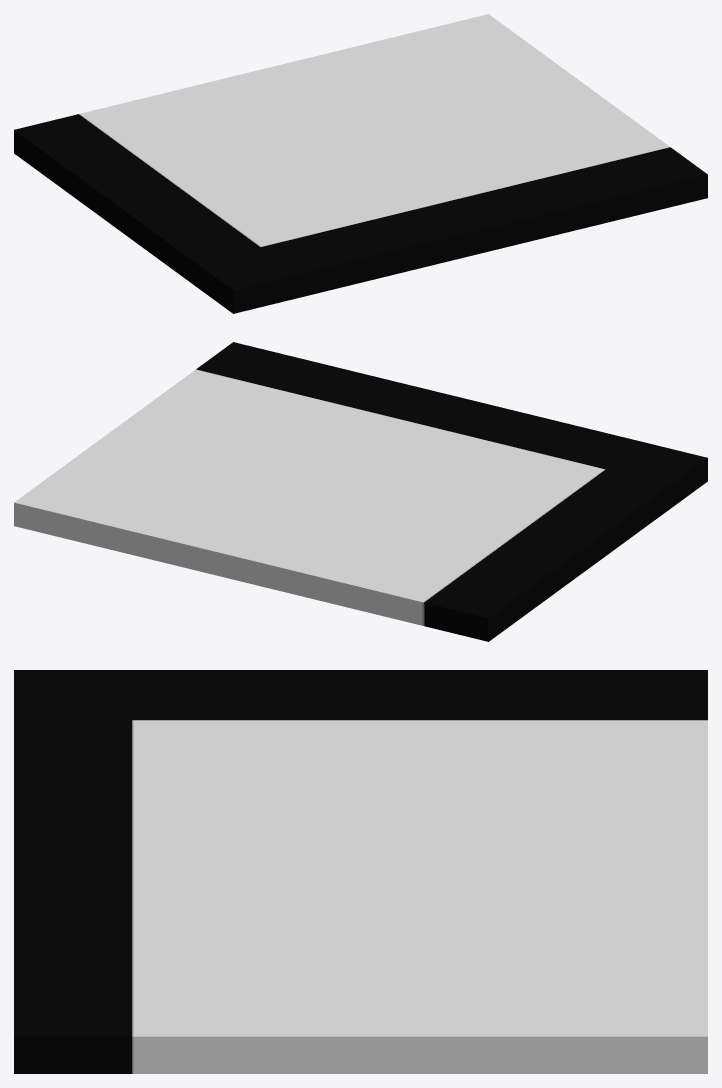
Rendered from CornerFloor.fbx.
The picture shows the model from 3 angles, top to bottom: view 1: azimuth 30°, elevation 25°; view 2: azimuth 150°, elevation 25°; view 3: azimuth 270°, elevation 25°; orthographic projection. The views are drawn at different scales.
Visible parts, largest first — view 1: Floor; view 2: Floor; view 3: Floor.
Boxes of the visible parts, <box> form: Floor: <box>14,14,707,313</box>; Floor: <box>14,342,707,641</box>; Floor: <box>14,670,707,1073</box>.
Size of the model in its own units: 1854 by 87.87 by 1483.
